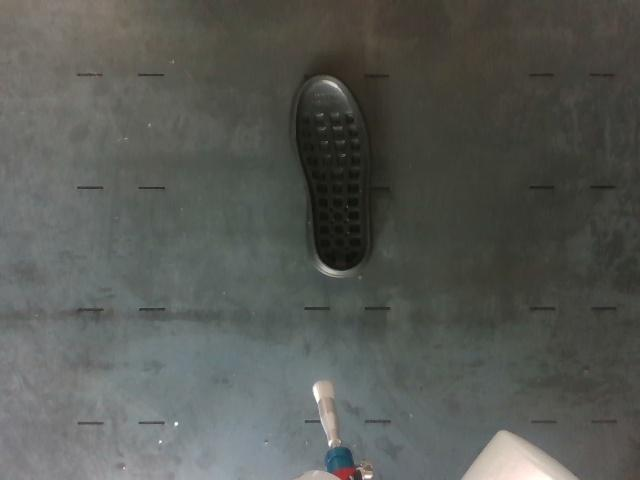shoes: (295, 74, 369, 271)
